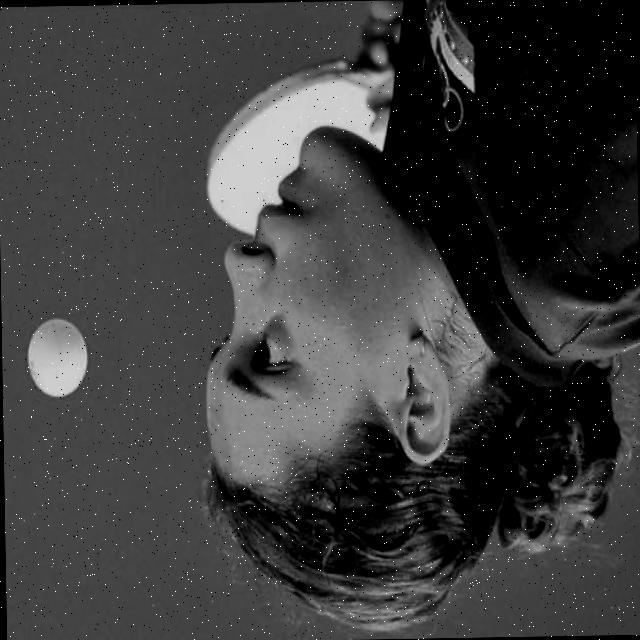ping-pong-ball: (24, 314, 88, 399)
